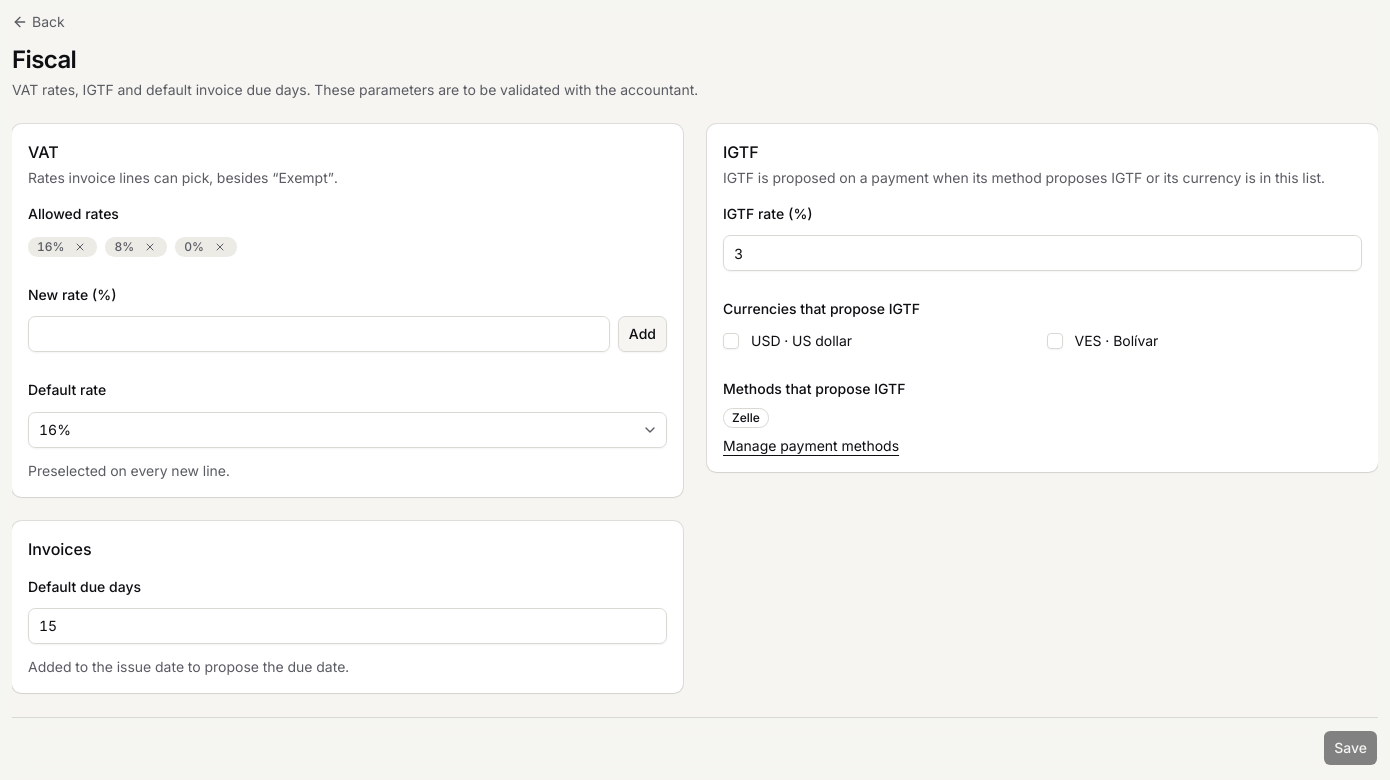
Test: FiscalSettingsForm › rejects a repeated VAT rate
The image size is (1390, 780).
Type "16" into the field labelled "New rate (%)".
click(319, 334); type("16")  # box [28,316,610,352]
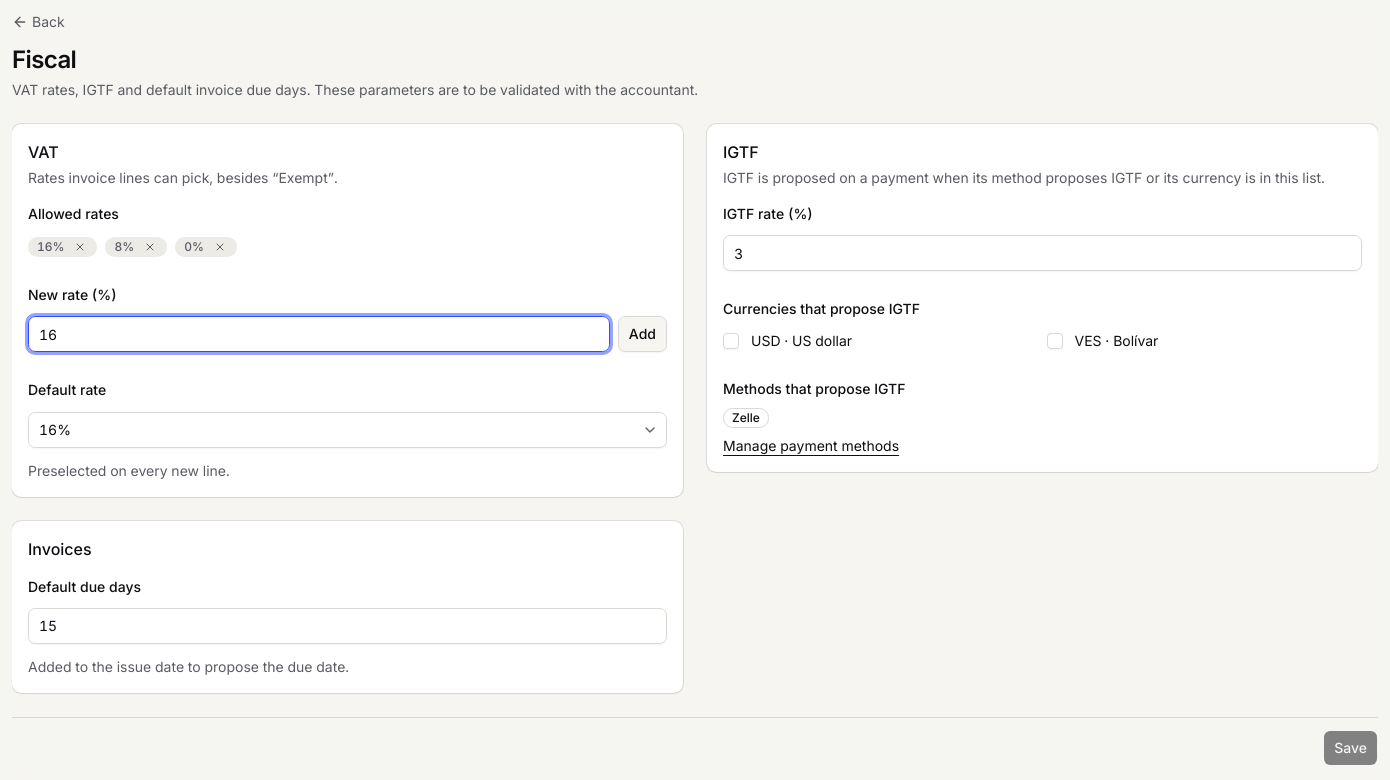
Click the button "Add".
click(642, 334)  # box [618,316,667,352]
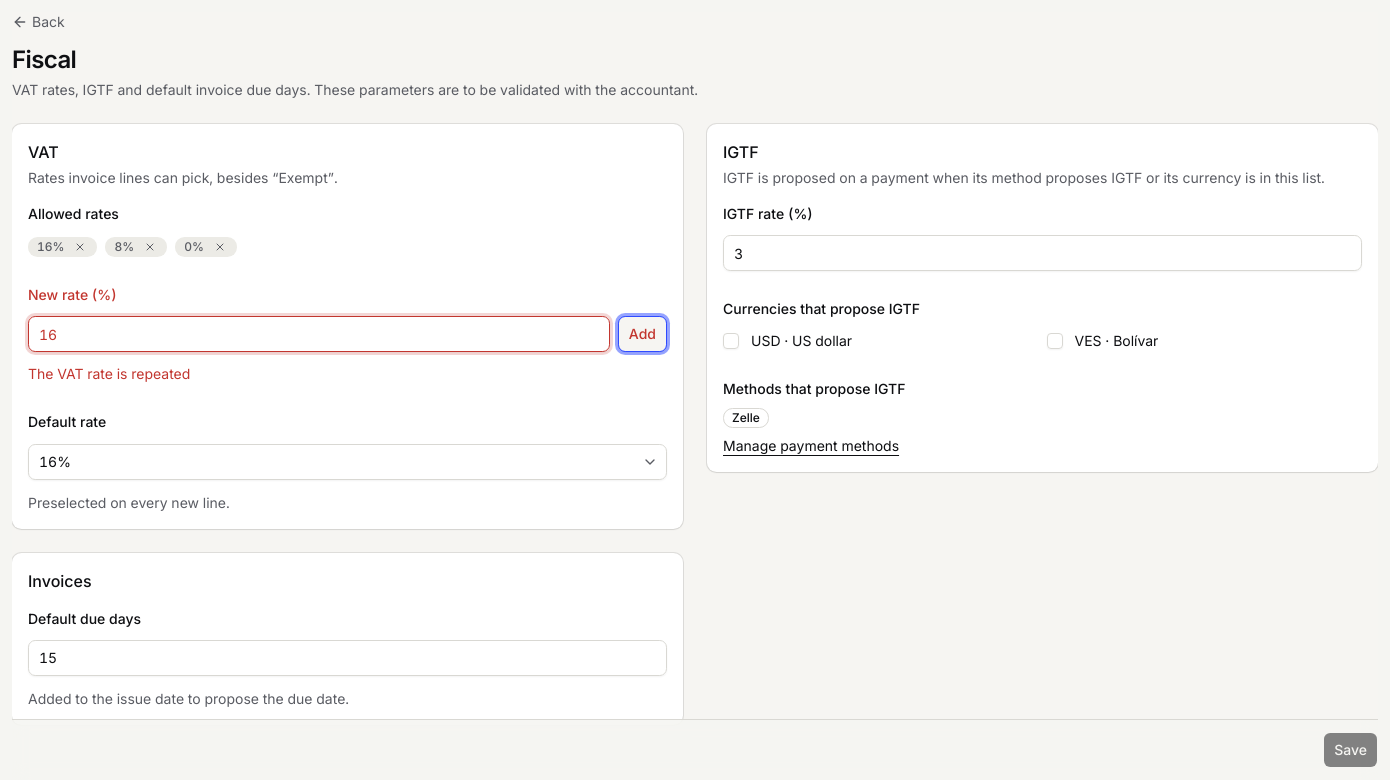
Expected: the text "The VAT rate is repeated" is shown, [28,365,190,382]
